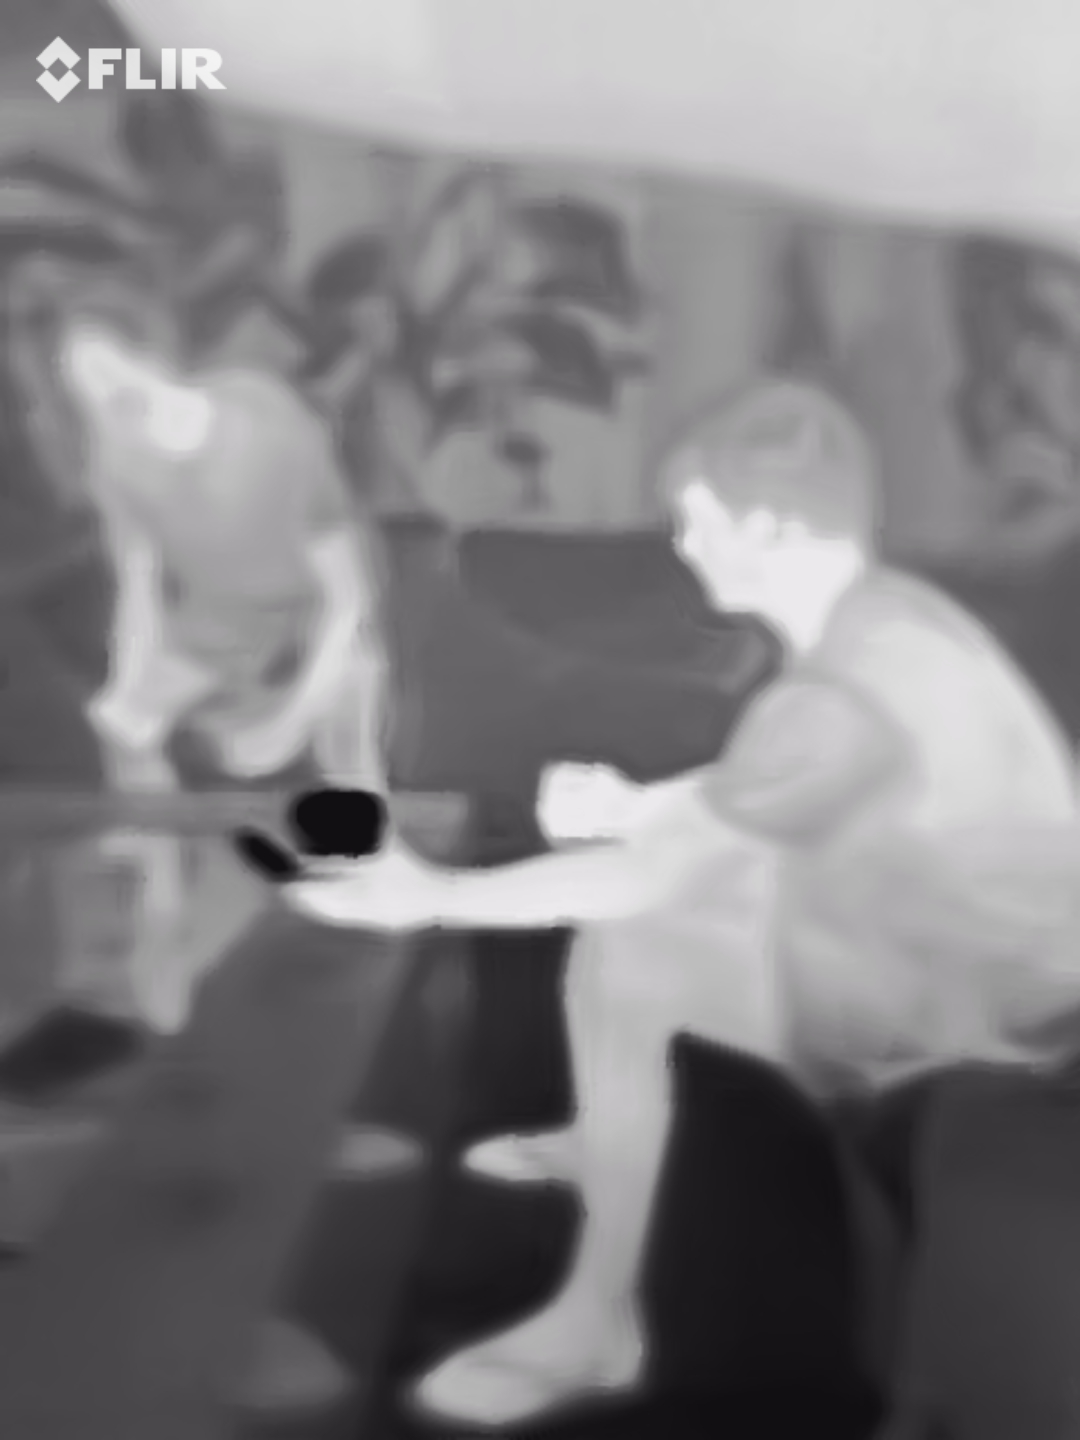head: (647, 380, 879, 628), (41, 289, 191, 448)
